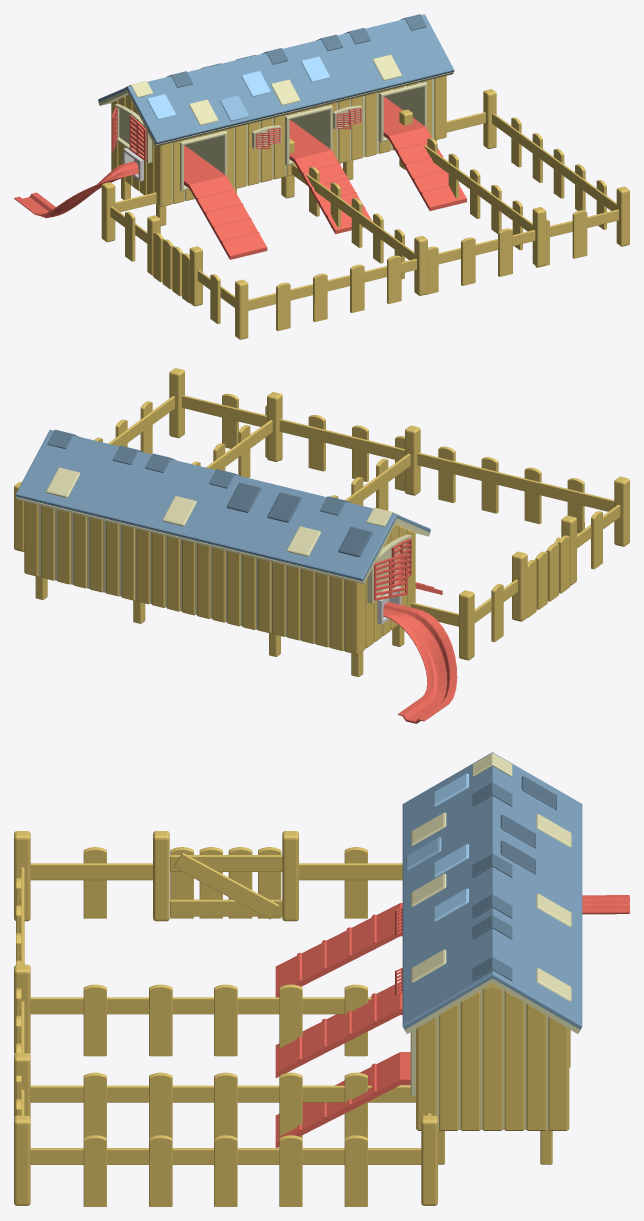
The model's file is tavuk_kumes.fbx.
The picture shows the model from 3 angles, top to bottom: view 1: azimuth 30°, elevation 25°; view 2: azimuth 150°, elevation 25°; view 3: azimuth 270°, elevation 25°; orthographic projection. The views are drawn at different scales.
Visible parts, largest first — view 1: Cube.009, Cube.034, Cube.007, Cube.079, Cube.008, Cube.088, Cube.006, cit_1.026, Cube.087, Cube.045, cit_1.036, cit_1.008 (+43 smaller); view 2: Cube.088, Cube.009, Cube.034, Cube.065, Cube.007, Cube.077, cit_1.013, Cube.045, cit_1.026, cit_1.047, tavuk_kumes.001, tavuk_kumes.002 (+43 smaller); view 3: yan_cit_3, Cube.009, Cube.007, Cube.034, cit_1.036, cit_1.020, Cube.079, Cube.006, cit_1.008, Cube.008, Cube.045, tavuk_kumes.002 (+32 smaller).
Part boxes in pixels (box(x1,y1,x2,y2)): Cube.009: box(229, 34, 373, 119); Cube.034: box(98, 62, 259, 144); Cube.007: box(343, 14, 454, 91); Cube.079: box(184, 145, 267, 259); Cube.008: box(383, 96, 466, 210); Cube.088: box(248, 96, 362, 185); Cube.006: box(289, 120, 371, 234); cit_1.026: box(248, 230, 535, 310); Cube.087: box(365, 76, 445, 156); Cube.045: box(153, 232, 189, 303); cit_1.036: box(492, 113, 616, 210); cit_1.008: box(291, 164, 414, 260); Cube.088: box(121, 525, 255, 629); Cube.009: box(109, 453, 277, 552); Cube.034: box(242, 485, 430, 581); Cube.065: box(25, 502, 119, 596); Cube.007: box(15, 429, 144, 519); Cube.077: box(383, 601, 457, 703); cit_1.013: box(417, 452, 614, 511); Cube.045: box(527, 535, 569, 617); cit_1.026: box(279, 419, 613, 511); cit_1.047: box(182, 395, 614, 511); tavuk_kumes.001: box(135, 528, 257, 629); tavuk_kumes.002: box(38, 505, 121, 596); yan_cit_3: box(417, 983, 568, 1130); Cube.009: box(402, 827, 582, 964); Cube.007: box(402, 912, 582, 1029); Cube.034: box(402, 752, 582, 879); cit_1.036: box(30, 1148, 421, 1164); cit_1.020: box(30, 1085, 415, 1102); Cube.079: box(275, 903, 402, 997); Cube.006: box(275, 983, 402, 1077); cit_1.008: box(30, 997, 371, 1014); Cube.008: box(275, 1052, 410, 1147); Cube.045: box(170, 847, 281, 918); tavuk_kumes.002: box(436, 989, 548, 1129).
Size of the model in its own units: 3429 by 1053 by 2879.
